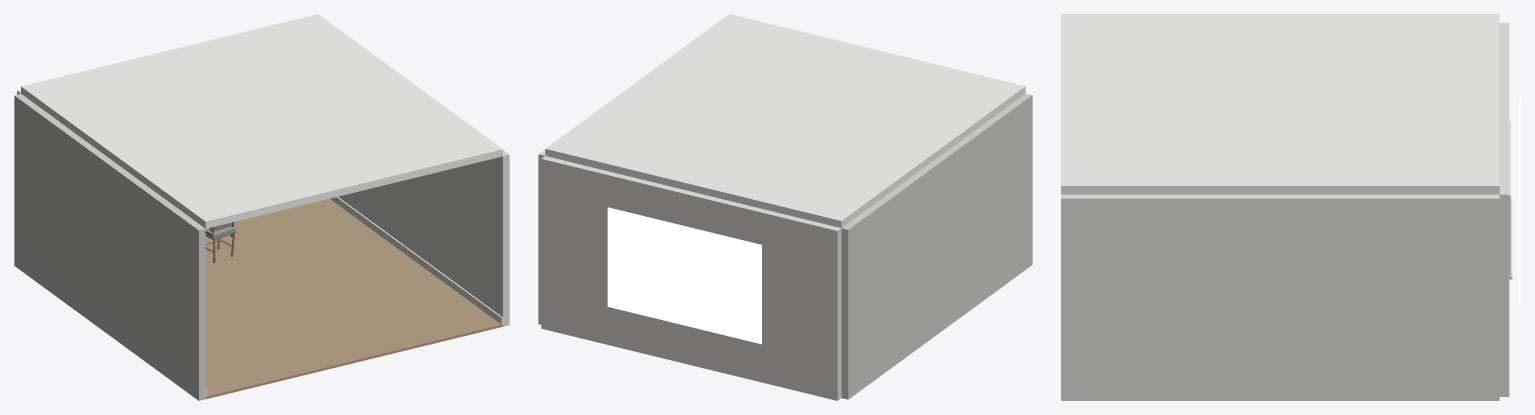
The model's file is studio-room.glb.
3 views of the same model, side by side, from view 1: azimuth 30°, elevation 25°; view 2: azimuth 150°, elevation 25°; view 3: azimuth 270°, elevation 25° (orthographic). The views are drawn at different scales.
Parts seen in each view (by area): view 1: ceiling, floor, wall_left, wall_right, baseboard_right; view 2: ceiling, wall_left, window_sky, wall_back_below, wall_back_above, wall_back_left, wall_back_right, wall_right; view 3: wall_right, ceiling, wall_back_above, wall_back_right, wall_back_below, window_sky.
Boxes of the visible parts, <box> form: ceiling: <box>21,14,502,228</box>; floor: <box>205,198,502,398</box>; wall_left: <box>14,93,205,400</box>; wall_right: <box>338,150,509,326</box>; baseboard_right: <box>330,196,502,324</box>; ceiling: <box>545,14,1025,227</box>; wall_left: <box>841,93,1032,399</box>; window_sky: <box>607,207,761,344</box>; wall_back_below: <box>541,268,841,400</box>; wall_back_above: <box>541,156,841,276</box>; wall_back_left: <box>762,258,841,339</box>; wall_back_right: <box>541,205,607,283</box>; wall_right: <box>538,149,545,324</box>; wall_right: <box>1061,194,1499,400</box>; ceiling: <box>1061,14,1499,194</box>; wall_back_above: <box>1499,22,1509,249</box>; wall_back_right: <box>1499,249,1509,324</box>; wall_back_below: <box>1499,324,1509,396</box>; window_sky: <box>1519,97,1520,304</box>.
Size of the model in its own units: 5.44 by 2.97 by 5.87.
